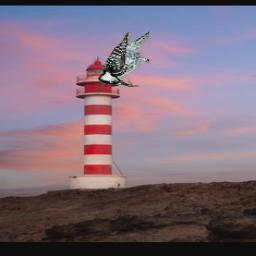Woodpecker: (97, 31, 149, 88)
